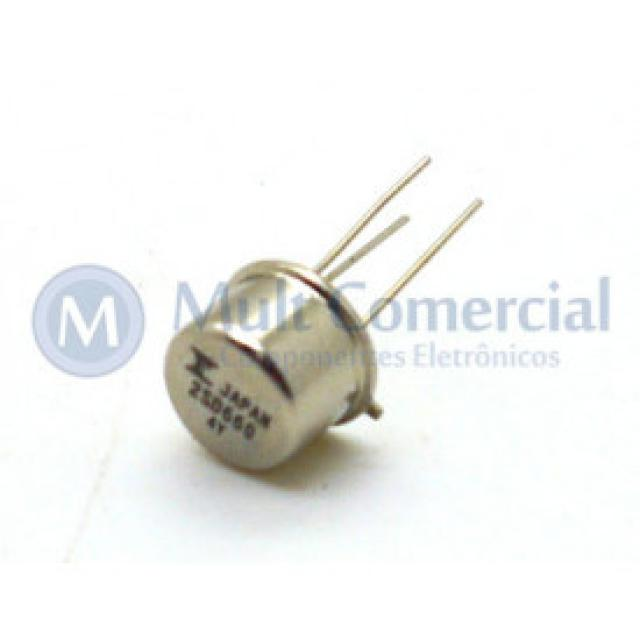Transistor: (163, 151, 472, 470)
